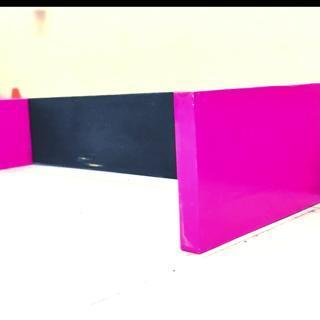xparking: (178, 94, 320, 238), (0, 101, 31, 167)
